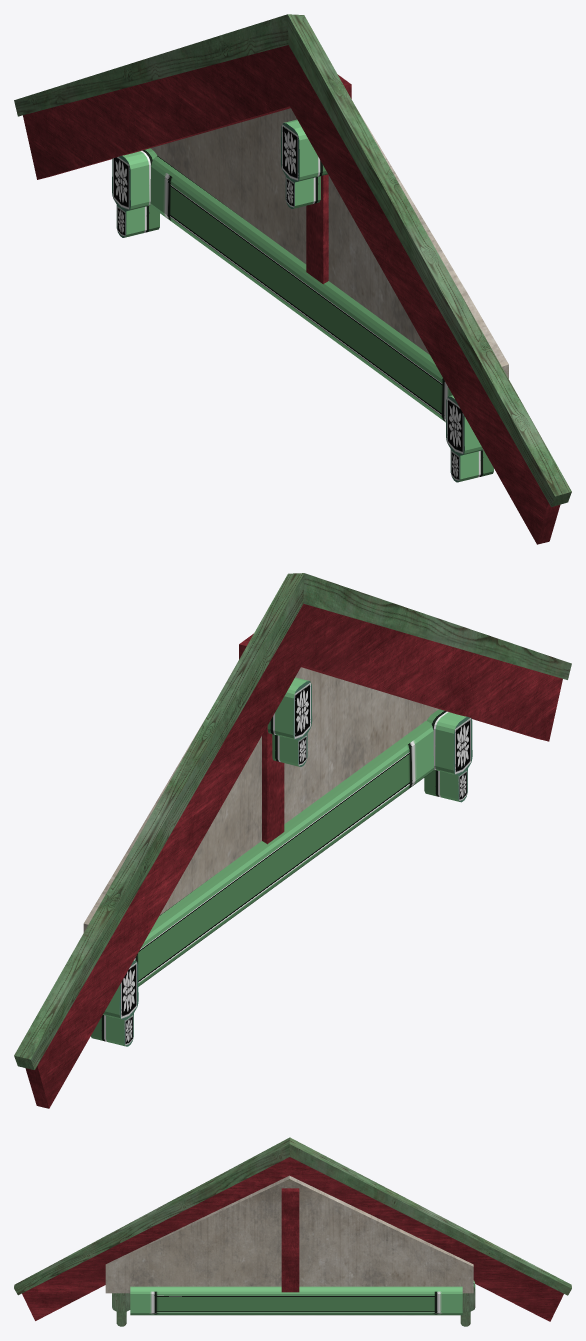
File: SM_R_RoofOuter_12.fbx
The picture shows the model from 3 angles, top to bottom: view 1: azimuth 30°, elevation 25°; view 2: azimuth 150°, elevation 25°; view 3: azimuth 270°, elevation 25°; orthographic projection. The views are drawn at different scales.
Parts seen in each view (by area): view 1: SM_R_RoofOuter_12; view 2: SM_R_RoofOuter_12; view 3: SM_R_RoofOuter_12.
Boxes of the visible parts, left/top/right/bottom form: SM_R_RoofOuter_12: left=14, top=14, right=571, bottom=544; SM_R_RoofOuter_12: left=14, top=573, right=571, bottom=1108; SM_R_RoofOuter_12: left=14, top=1137, right=571, bottom=1326.
Size of the model in its own units: 36.7 by 604 by 216.
Materials: 4 (4 with a texture image).
